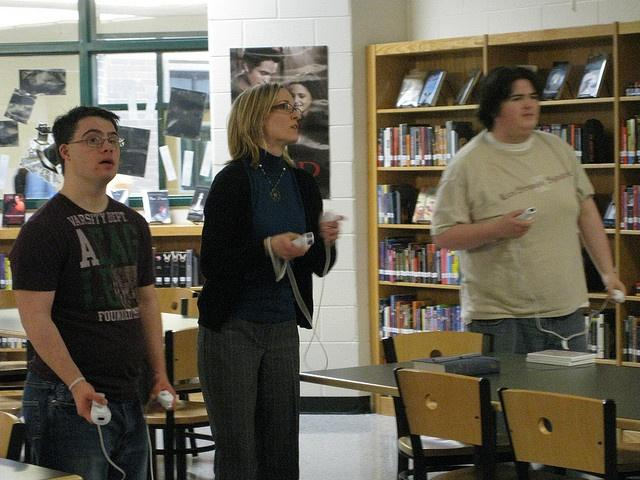Meja: (297, 348, 639, 450)
Rak: (364, 18, 488, 365)
